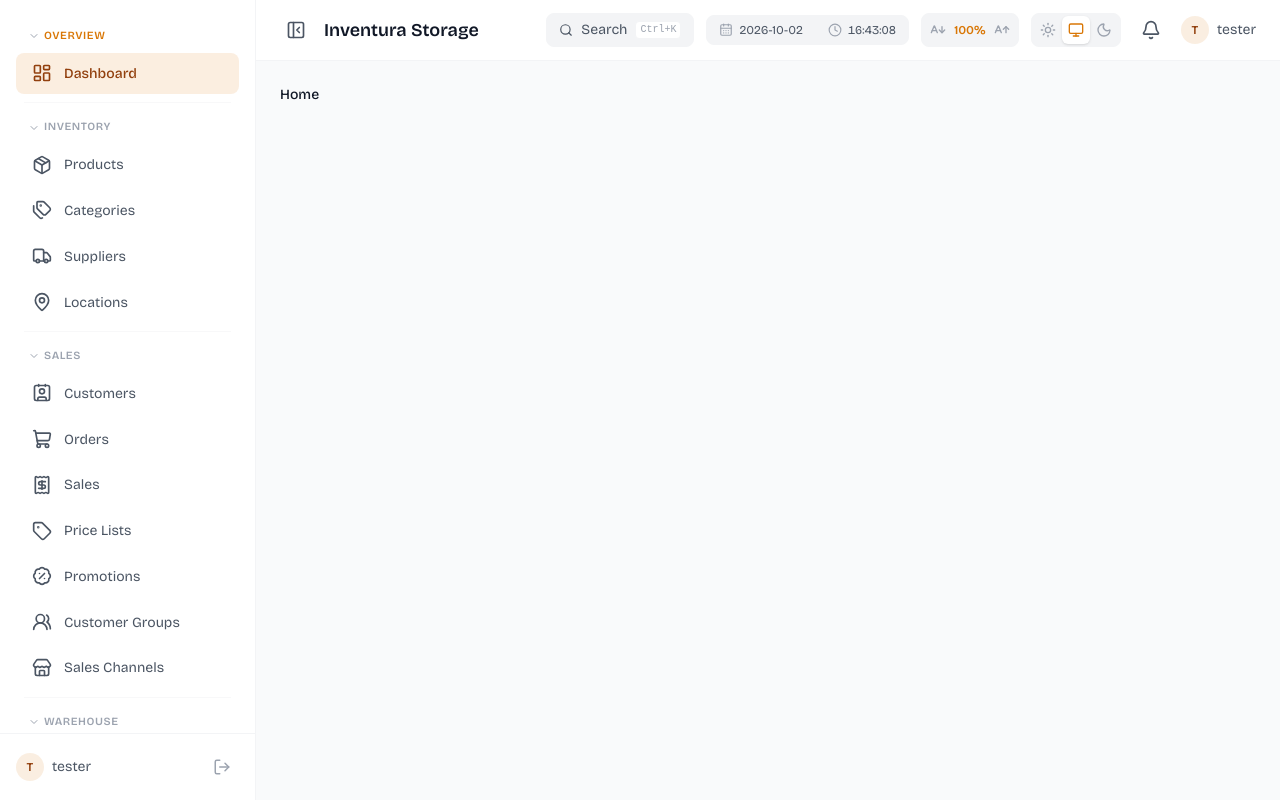
it: Layout › decreases the root font size with the decrease control
Click the button titled "Decrease font size": (938, 30) [924, 16, 952, 44]
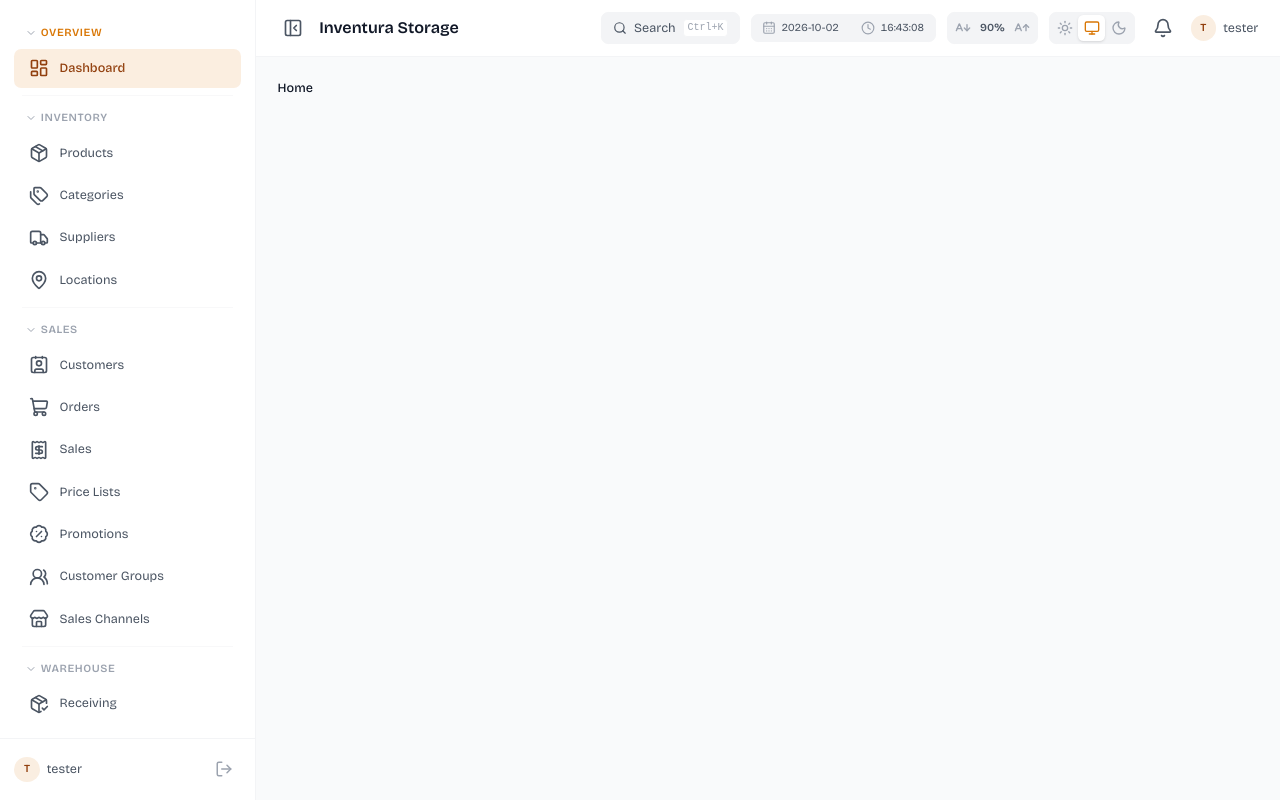
Result: the button "90%" is shown at [976, 21, 1008, 35]
Click the button titled "Decrease font size": (963, 28) [949, 15, 976, 41]
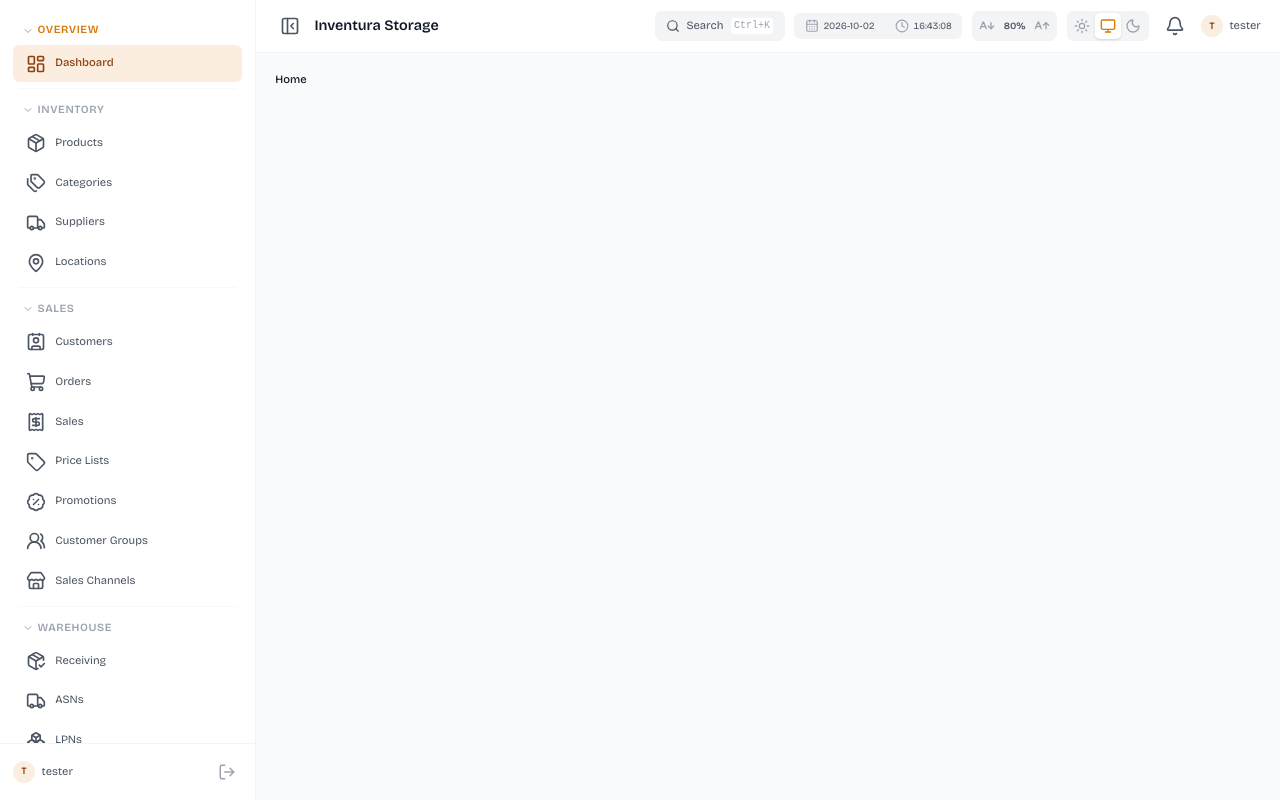
Result: the button "80%" is shown at [1000, 20, 1029, 32]
